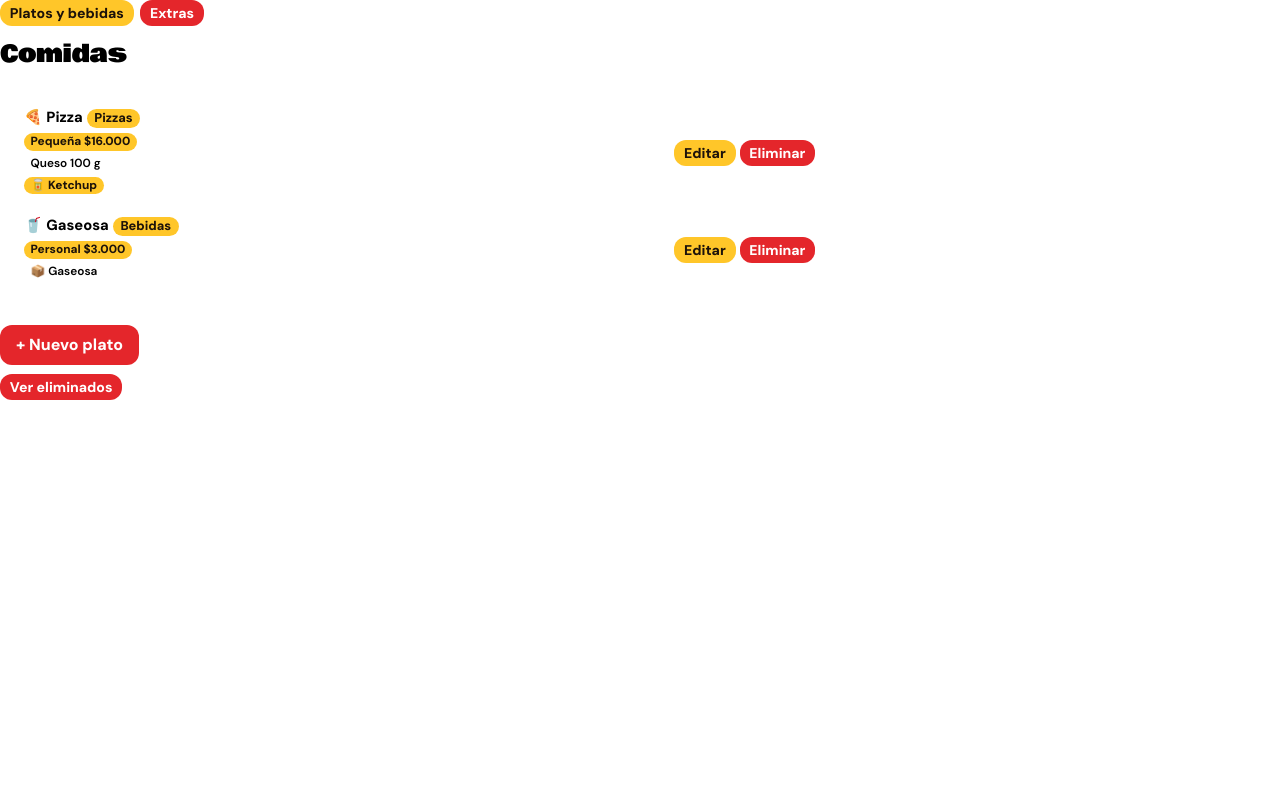
it: Comidas: platos y bebidas › agrega y quita tamaños
This screenshot has width=1280, height=800.
Step 1. Click the button "+ Nuevo plato" → point(70, 345), box [0,325,139,364]
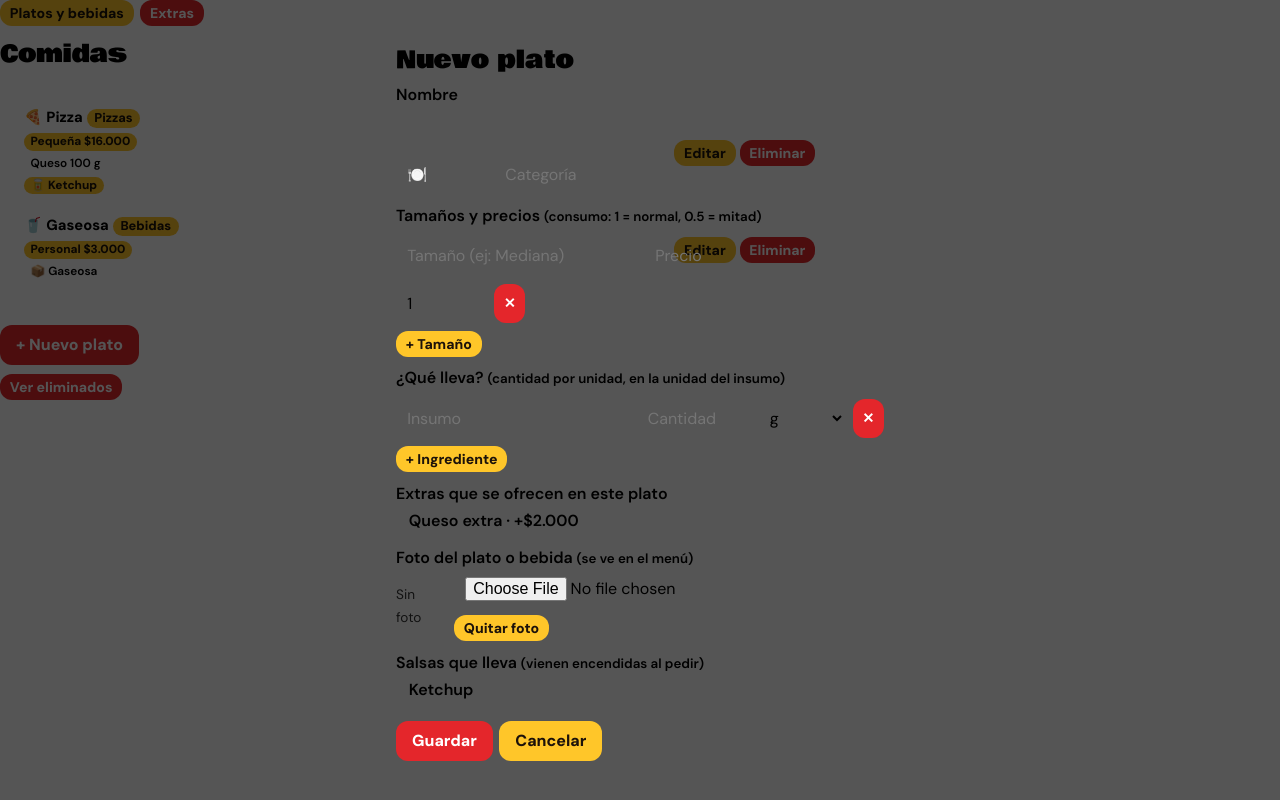
Step 2. Click the button "+ Tamaño" → point(439, 344), box [396,331,482,357]
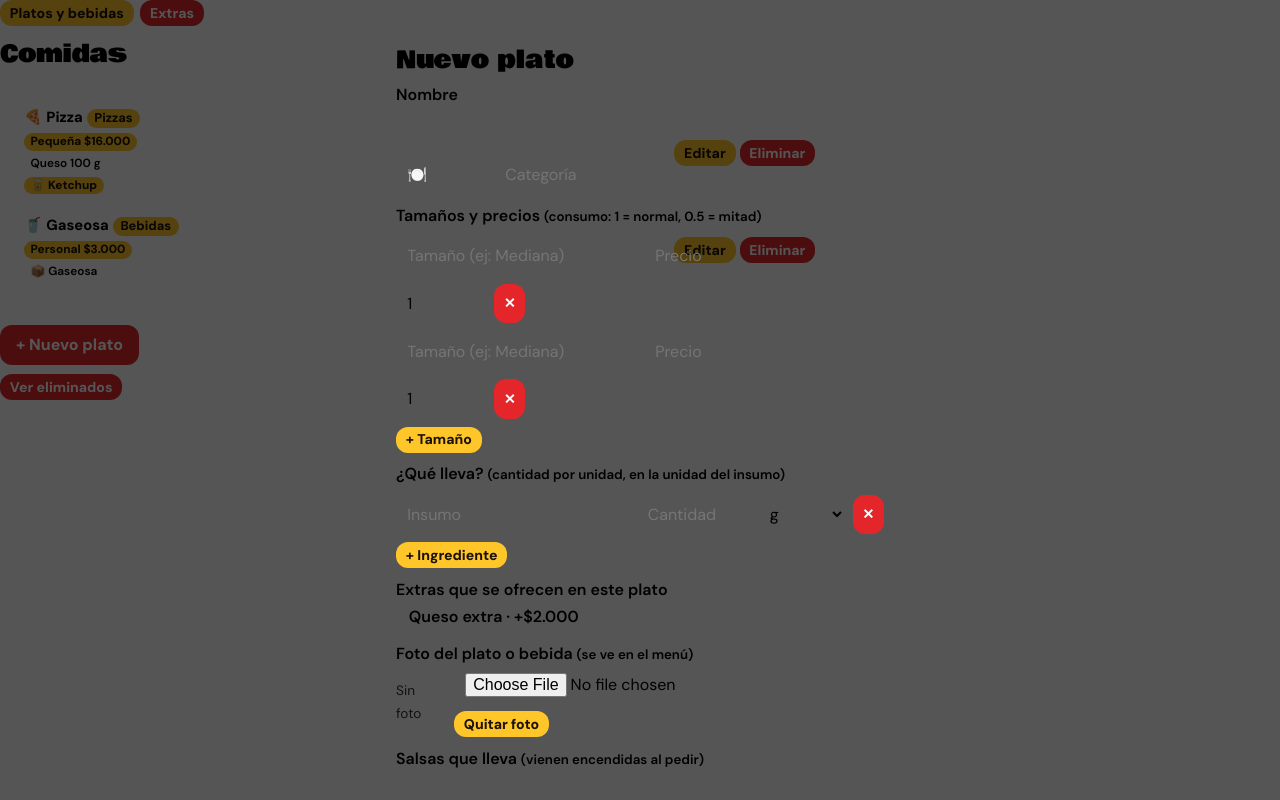
Expected: the number of fields with placeholder "Tamaño (ej: Mediana)" is 2, [396,236,636,276]; [396,332,636,372]
Step 3. Click the button named "Quitar" → point(510, 303), box [494,284,526,323]
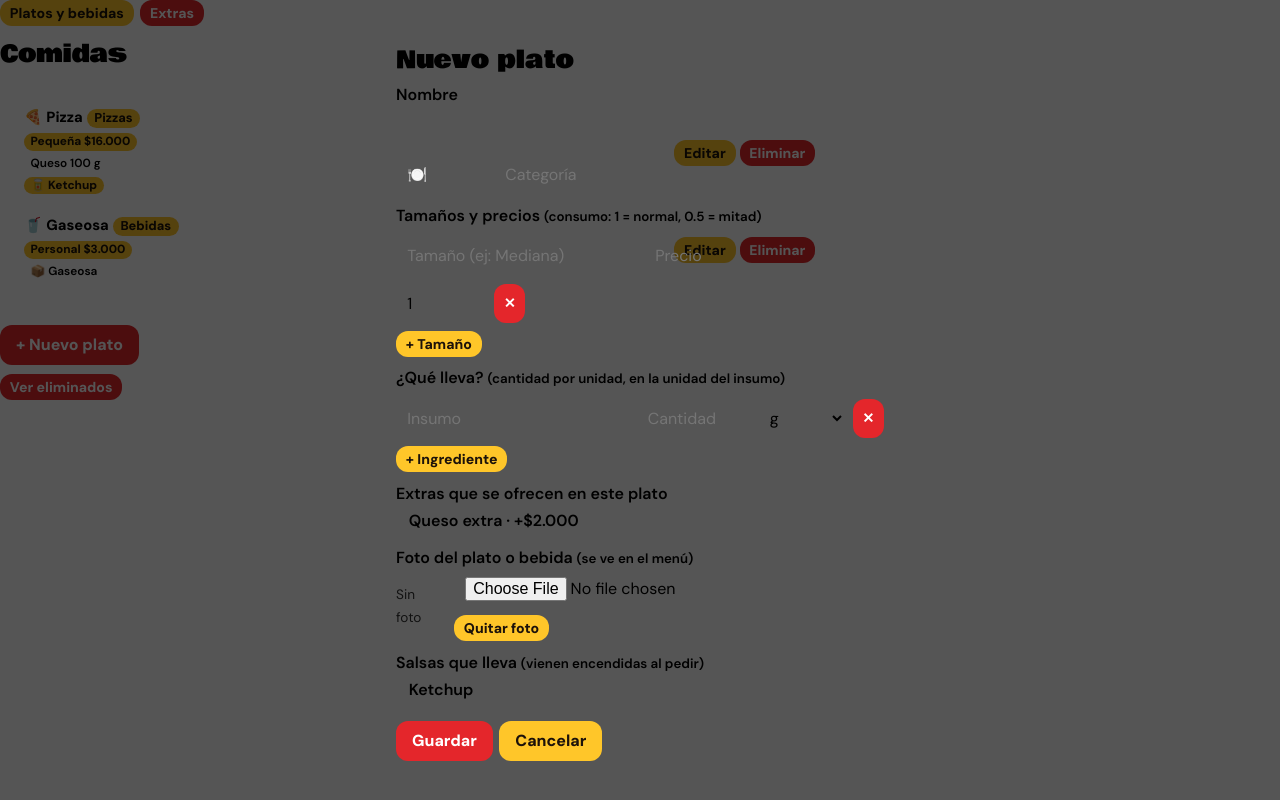
Expected: the number of fields with placeholder "Tamaño (ej: Mediana)" is 1, [396,236,636,276]
